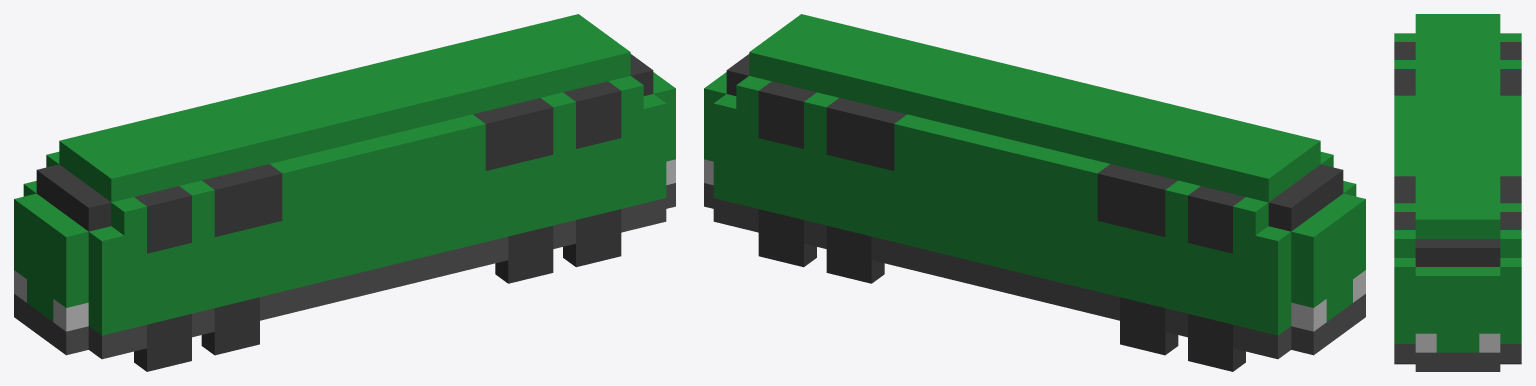
Rendered from train-v3-green.gltf.
3 renders of one model, left to right at view 1: azimuth 30°, elevation 25°; view 2: azimuth 150°, elevation 25°; view 3: azimuth 270°, elevation 25°, orthographic. The views are drawn at different scales.
Parts seen in each view (by area): view 1: model, wheels; view 2: model, wheels; view 3: model.
Part boxes in pixels (x1,y1,x2,y2): model: [14, 14, 675, 359]; wheels: [134, 209, 621, 371]; model: [704, 14, 1365, 359]; wheels: [758, 209, 1245, 371]; model: [1394, 14, 1521, 371].
Size of the model in its own units: 2.7 by 0.8 by 0.6.
2 materials, 2 textured.
